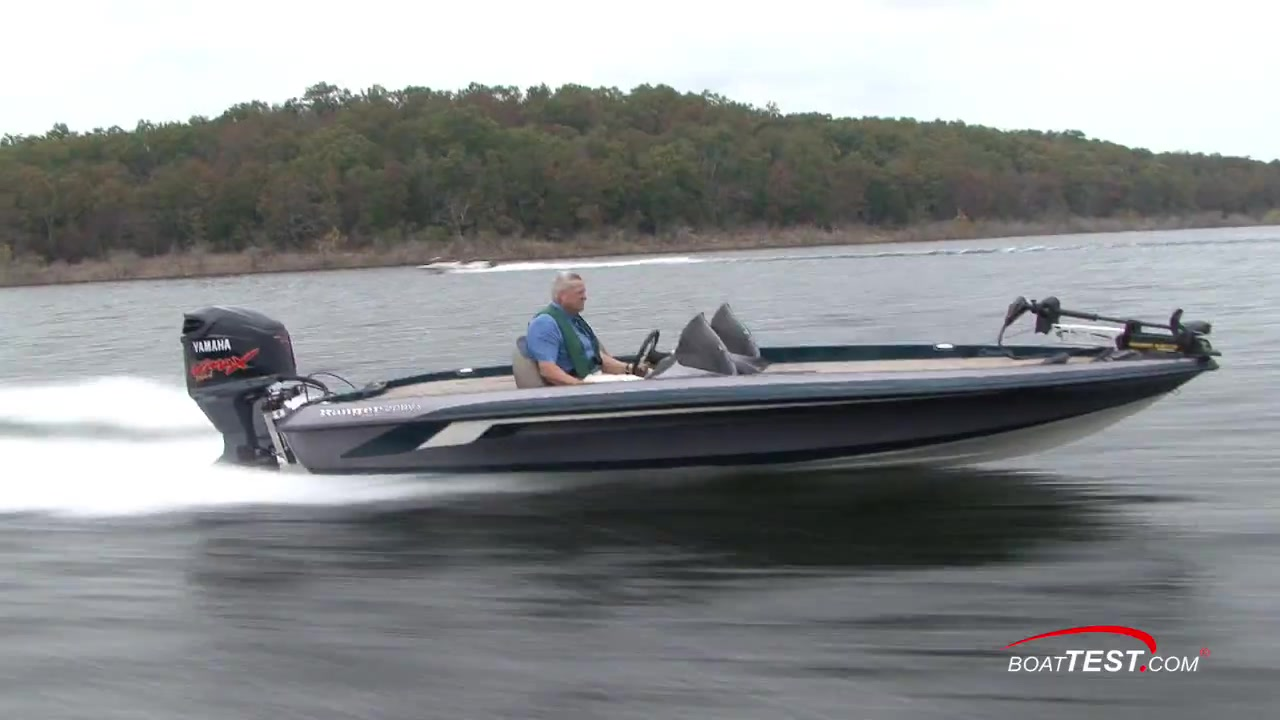boat: (175, 296, 1226, 479)
